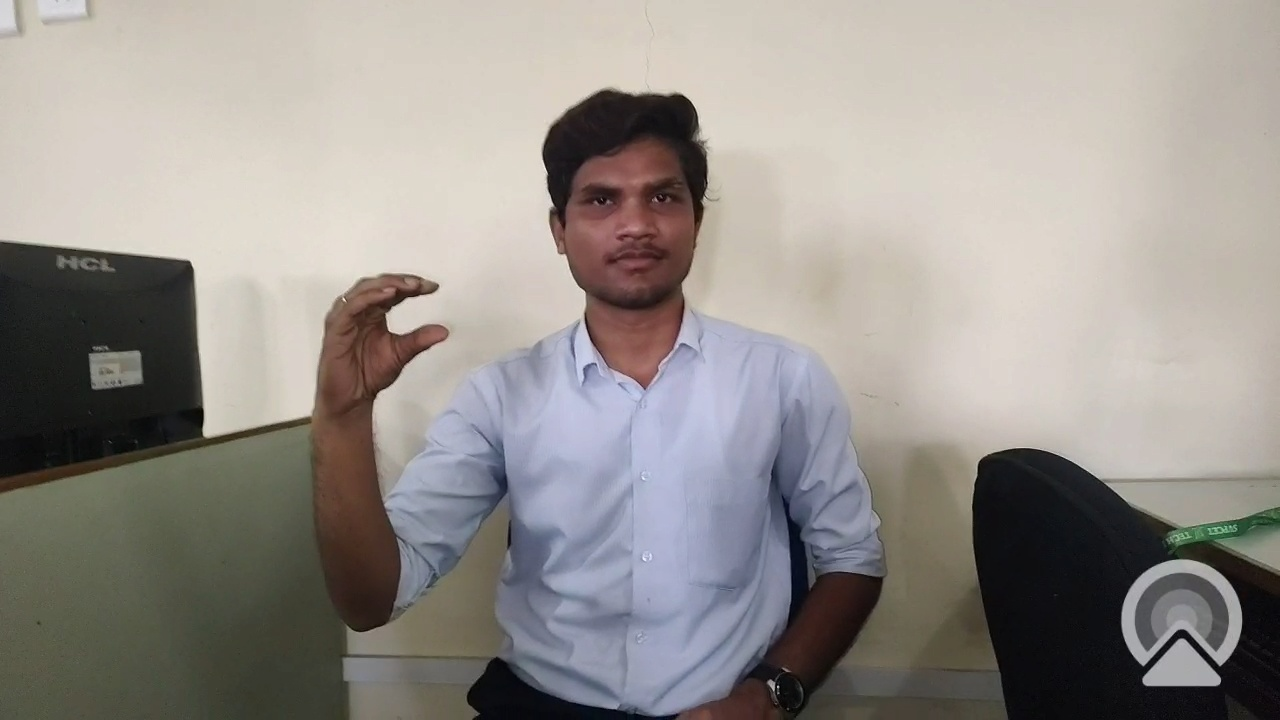No: (289, 255, 456, 425)
